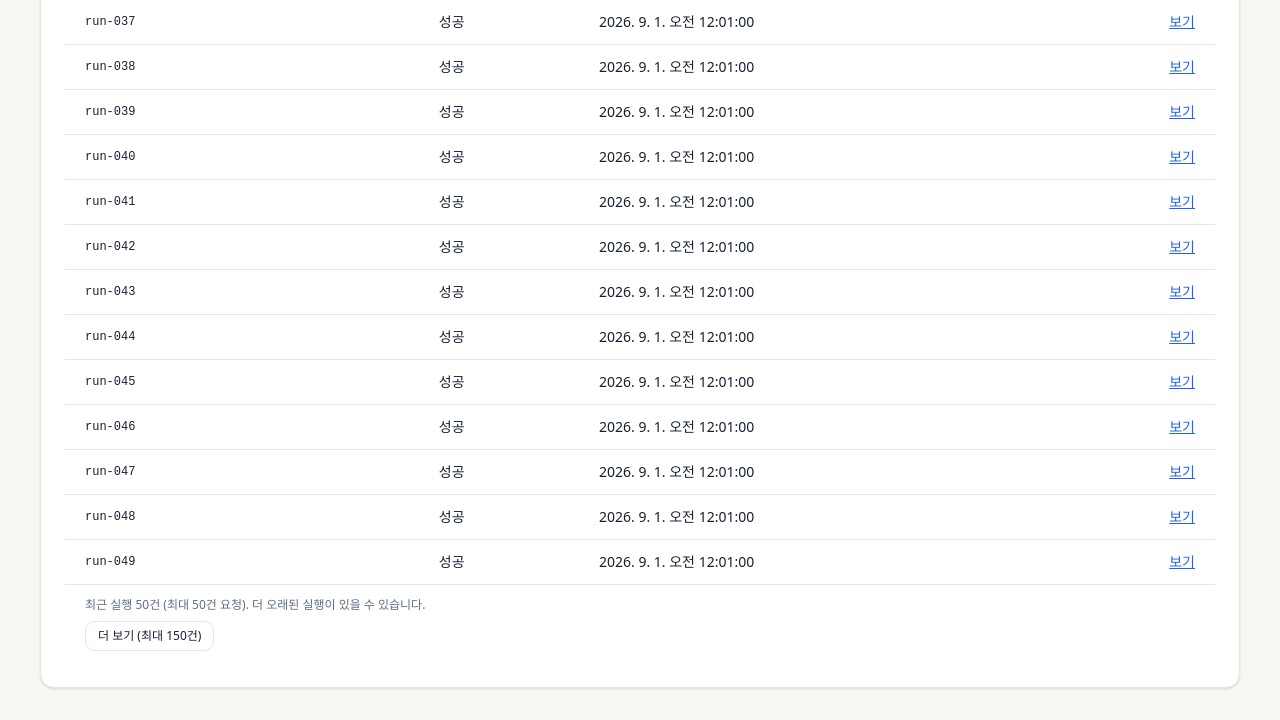
Test: Table Detail Snapshots tab: same first limit and show more (#653) › asks with the run view's limit (50, not 20) and then 150
(page scrolled)
expect the text "run-049" is shown: met, box [65,540,419,584]
What coordinates should you click on to do the following:
click the button "더 보기 (최대 150건)"
I would click on:
 (150, 636)
Its box is [85,621,214,651].
(page scrolled)
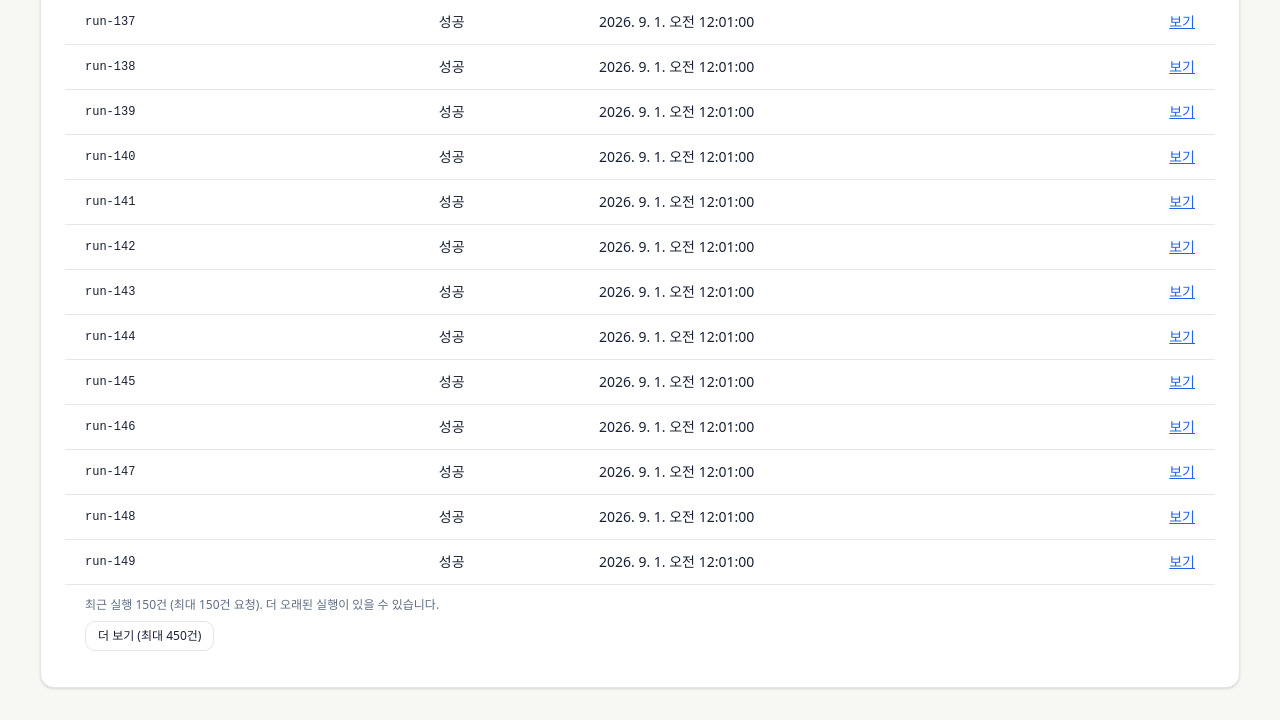
expect the text "run-149" is shown: met, box [65,540,419,584]
